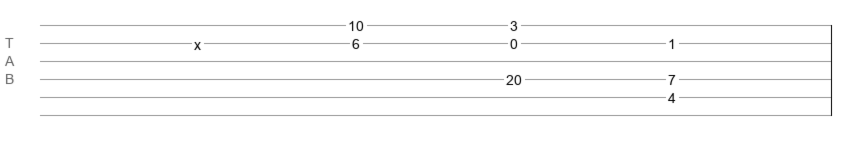0: (510, 36, 518, 46)
1: (668, 36, 676, 46)
10: (348, 18, 364, 28)
20: (506, 72, 522, 82)
3: (510, 18, 518, 28)
4: (668, 90, 676, 100)
6: (352, 36, 360, 46)
7: (668, 72, 676, 82)
x: (194, 37, 201, 45)
